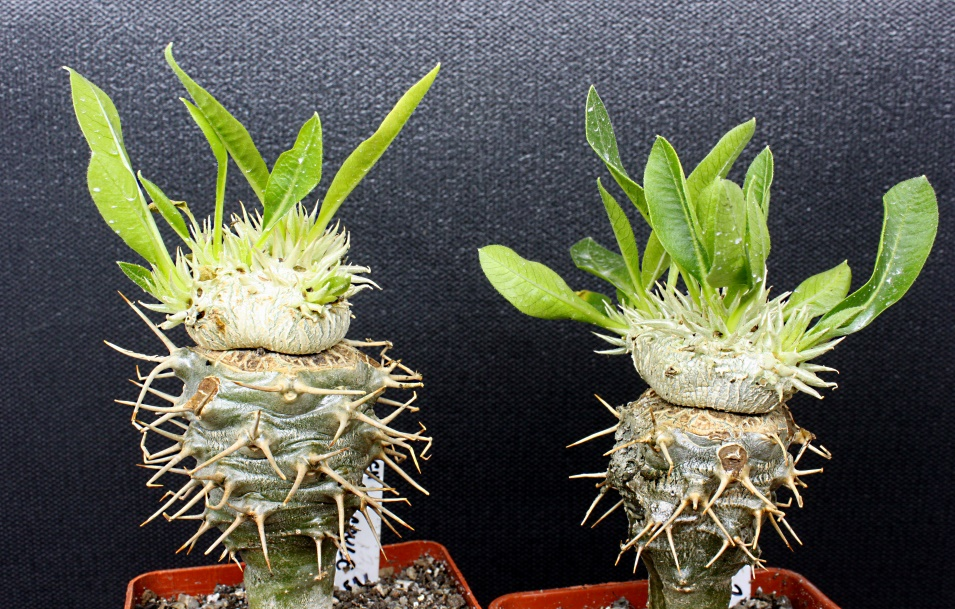Pachypodium brevicaule: (109, 91, 439, 591), (569, 112, 846, 598)
